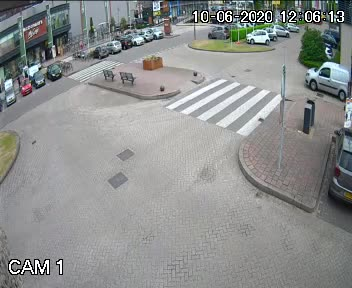car: (297, 54, 352, 115)
